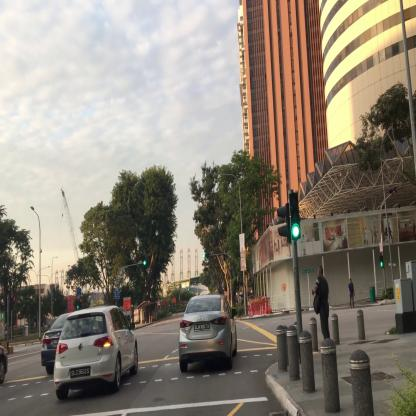green_traffic_light: (289, 193, 301, 238), (144, 260, 150, 264), (202, 254, 209, 257)
